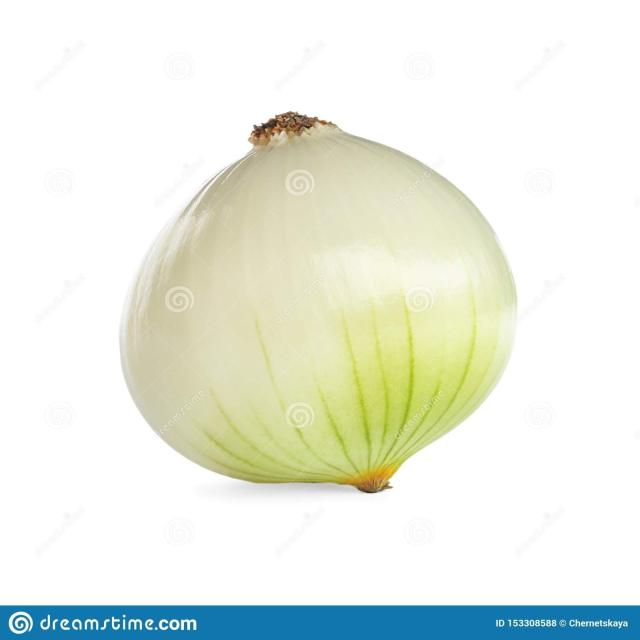Onion: (117, 113, 520, 494)
